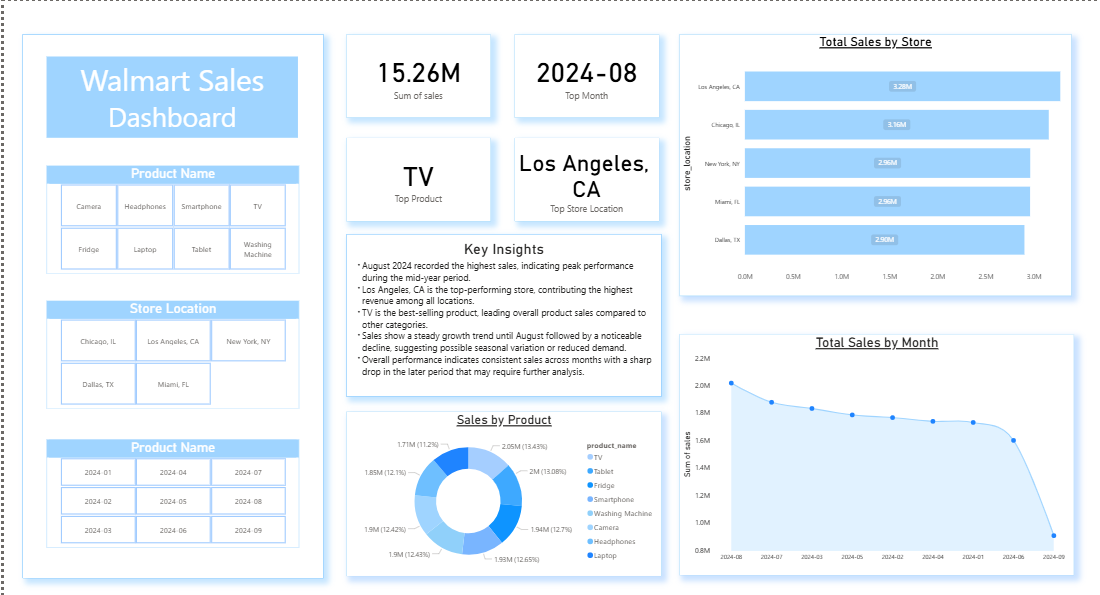

The dashboard page shown, as its layout file describes it:
{"tool":"powerbi","page":{"name":"Page 1","canvas":[1980,1080],"ordinal":0},"visuals":[{"type":"lineChart","title":"Total Sales by Month","fields":{"Category":["walmartdb base_sales.Month"],"Y":["Sum(walmartdb base_sales.sales)"]},"box":[1215.4,600,711.5,434.6],"z":0},{"type":"barChart","title":" Total Sales by Store","fields":{"Category":["walmartdb base_sales.store_location"],"Y":["Sum(walmartdb base_sales.sales)"]},"box":[1217.9,60.7,707.1,471.4],"z":1000},{"type":"donutChart","title":"Sales by Product","fields":{"Category":["walmartdb base_sales.product_name"],"Y":["Sum(walmartdb base_sales.sales)"]},"box":[617.9,739.3,567.9,296.4],"z":2000},{"type":"card","fields":{"Values":["Sum(walmartdb base_sales.sales)"]},"box":[617.9,60.7,260.7,150],"z":3000},{"type":"card","fields":{"Values":["walmartdb base_sales.Top Month"]},"box":[921.4,60.7,260.7,150],"z":4000},{"type":"card","fields":{"Values":["walmartdb base_sales.Top Product"]},"box":[617.9,246.4,260.7,150],"z":5000},{"type":"card","fields":{"Values":["walmartdb base_sales.Top Store Location"]},"box":[921.4,246.4,260.7,150],"z":6000},{"type":"textbox","box":[32.1,60.7,542.9,980],"z":7000},{"type":"textbox","title":"Key Insights","box":[617.9,421.4,567.9,292.9],"z":8000},{"type":"textbox","box":[100,100,429.8,146.6],"z":9000},{"type":"textbox","box":[76.6,100,453.2,146.6],"z":10000},{"type":"slicer","title":"Product Name","fields":{"Values":["walmartdb base_sales.product_name"]},"box":[75,295,455,195],"z":11000},{"type":"slicer","title":"Store Location","fields":{"Values":["walmartdb base_sales.store_location"]},"box":[75,540,455,195],"z":12000},{"type":"slicer","title":"Product Name","fields":{"Values":["walmartdb base_sales.Month"]},"box":[75,790,455,195],"z":13000}]}

Visuals, with their boxes in screenshot pixels (x1, y1, x2, y2), scaled from the page's 1980x1080 canvas onto the 1100x595 screenshot:
"Total Sales by Month" lineChart: x1=675 y1=331 x2=1070 y2=570
" Total Sales by Store" barChart: x1=677 y1=33 x2=1069 y2=293
"Sales by Product" donutChart: x1=343 y1=407 x2=659 y2=571
card - Sum(walmartdb base_sales.sales): x1=343 y1=33 x2=488 y2=116
card - walmartdb base_sales.Top Month: x1=512 y1=33 x2=657 y2=116
card - walmartdb base_sales.Top Product: x1=343 y1=136 x2=488 y2=218
card - walmartdb base_sales.Top Store Location: x1=512 y1=136 x2=657 y2=218
textbox: x1=18 y1=33 x2=319 y2=573
"Key Insights" textbox: x1=343 y1=232 x2=659 y2=394
textbox: x1=56 y1=55 x2=294 y2=136
textbox: x1=43 y1=55 x2=294 y2=136
"Product Name" slicer: x1=42 y1=163 x2=294 y2=270
"Store Location" slicer: x1=42 y1=298 x2=294 y2=405
"Product Name" slicer: x1=42 y1=435 x2=294 y2=543
